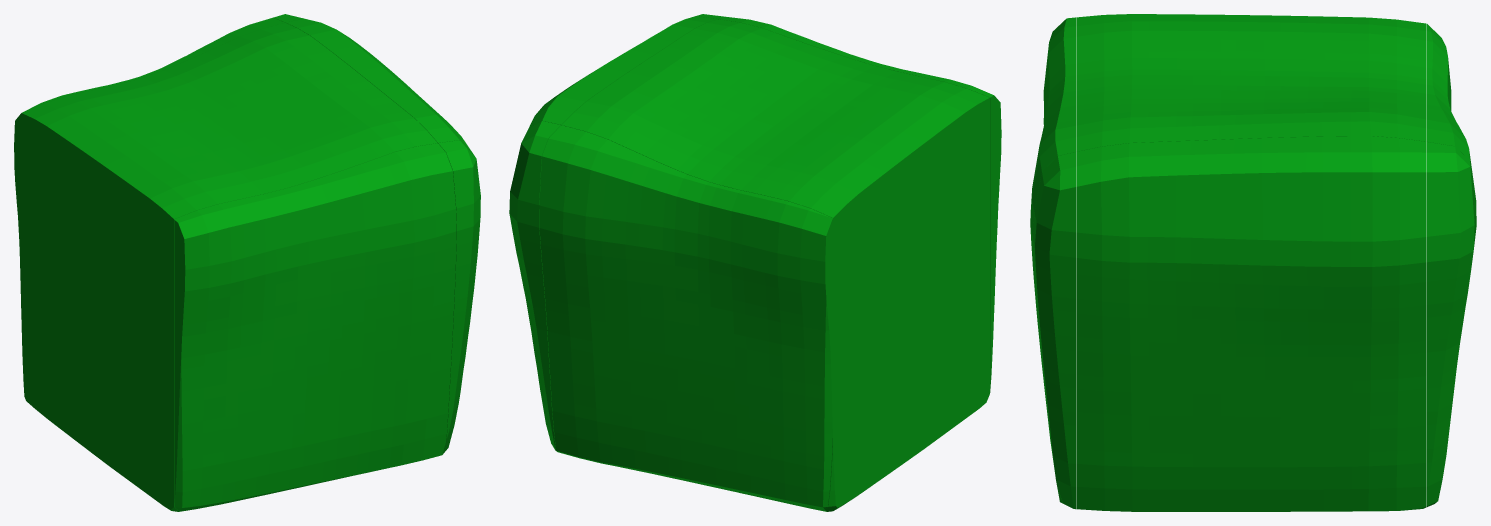
Rendered from 4by10beveledsubdivided.009.fbx.
3 renders of one model, left to right at view 1: azimuth 30°, elevation 25°; view 2: azimuth 150°, elevation 25°; view 3: azimuth 270°, elevation 25°, orthographic. The views are drawn at different scales.
Parts seen in each view (by area): view 1: 4by10beveledsubdivided.009; view 2: 4by10beveledsubdivided.009; view 3: 4by10beveledsubdivided.009.
Part boxes in pixels (bbox=[...]): 4by10beveledsubdivided.009: bbox=[14, 14, 480, 511]; 4by10beveledsubdivided.009: bbox=[509, 14, 1001, 511]; 4by10beveledsubdivided.009: bbox=[1030, 14, 1476, 511].
Bounding box in the file's own units: 240 × 233 × 255.
